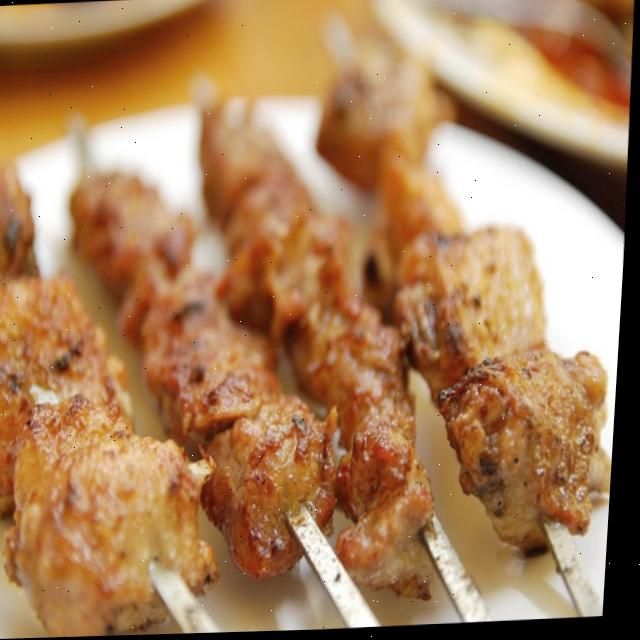烧串烤肉: (0, 0, 628, 631)
